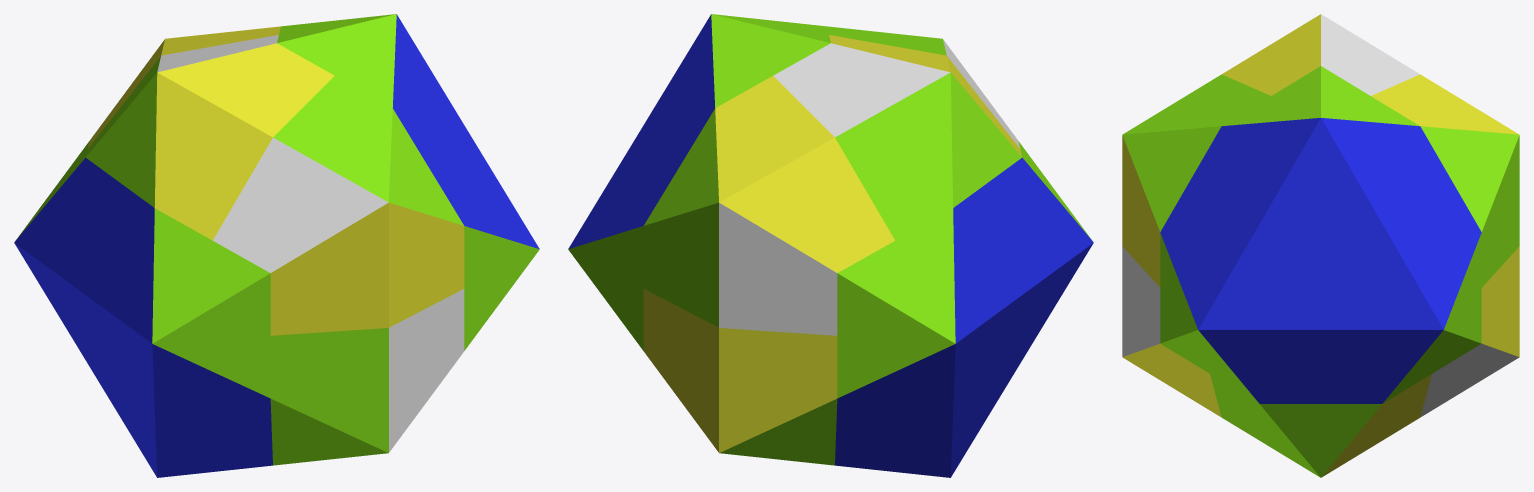
The model's file is icosahedron5.glb.
The picture shows the model from 3 angles, left to right: view 1: azimuth 30°, elevation 25°; view 2: azimuth 150°, elevation 25°; view 3: azimuth 270°, elevation 25°; orthographic projection. The views are drawn at different scales.
Visible parts, largest first — view 1: Solid2, Solid1, Solid3, Solid4; view 2: Solid2, Solid1, Solid3, Solid4; view 3: Solid1, Solid2, Solid3, Solid4.
Boxes of the visible parts, x1,y1,x2,y2 form: Solid2: (15,14,539,465); Solid1: (14,14,539,477); Solid3: (87,26,464,335); Solid4: (157,35,464,452); Solid2: (568,14,1092,465); Solid1: (568,14,1093,477); Solid3: (643,35,1021,452); Solid4: (719,39,1020,335); Solid1: (1160,118,1481,403); Solid2: (1122,66,1519,477); Solid3: (1122,14,1519,477); Solid4: (1122,14,1519,417).
Size of the model in its own units: 1.7 by 1.7 by 1.7.
